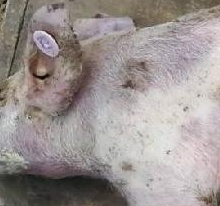text: (21, 20, 69, 65)
